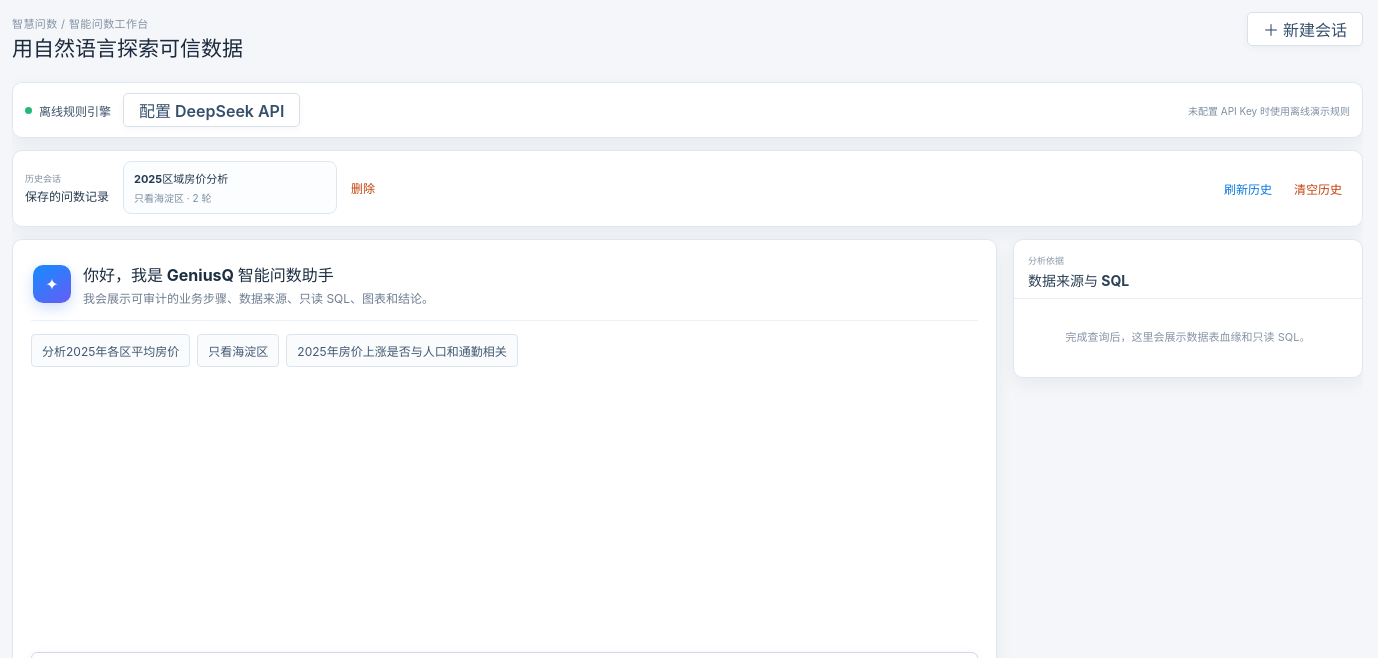
restores a saved conversation from the history list
Click the button with aria-label "打开会话：2025区域房价分析" at (230, 188), box [123, 161, 337, 214]
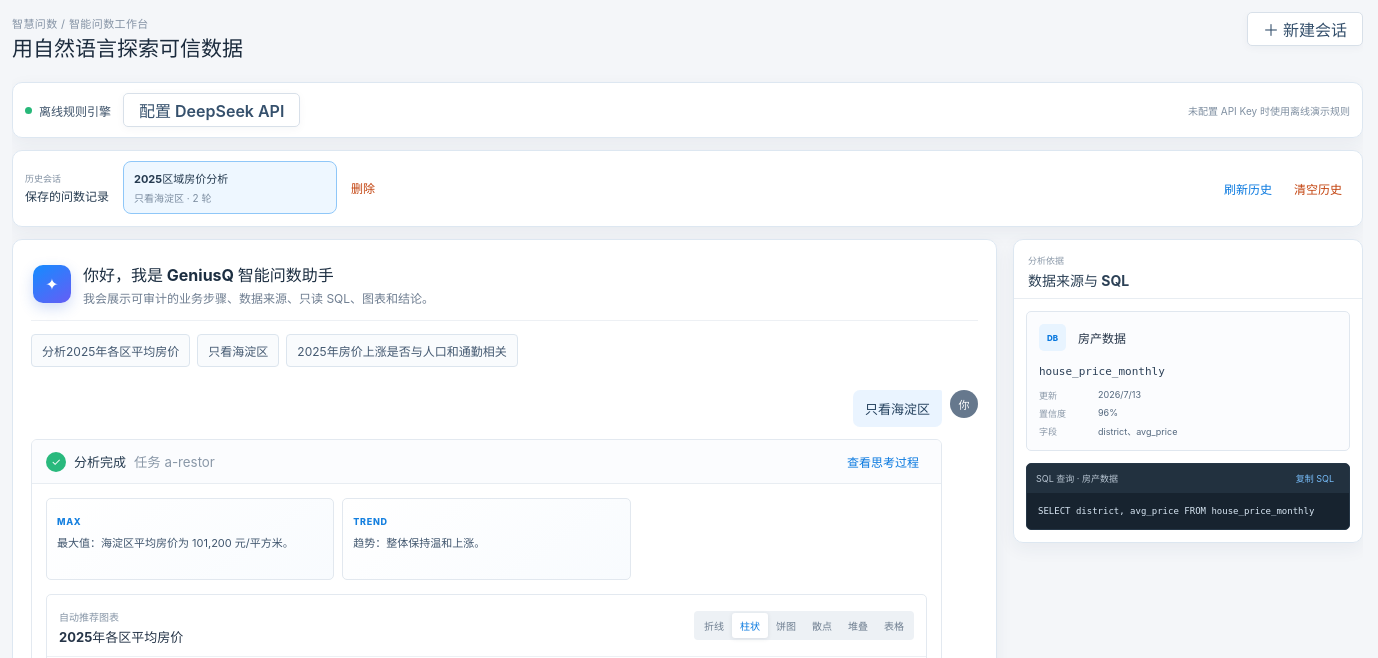
Expected: the text "a-restor" is shown, [164, 454, 215, 470]
